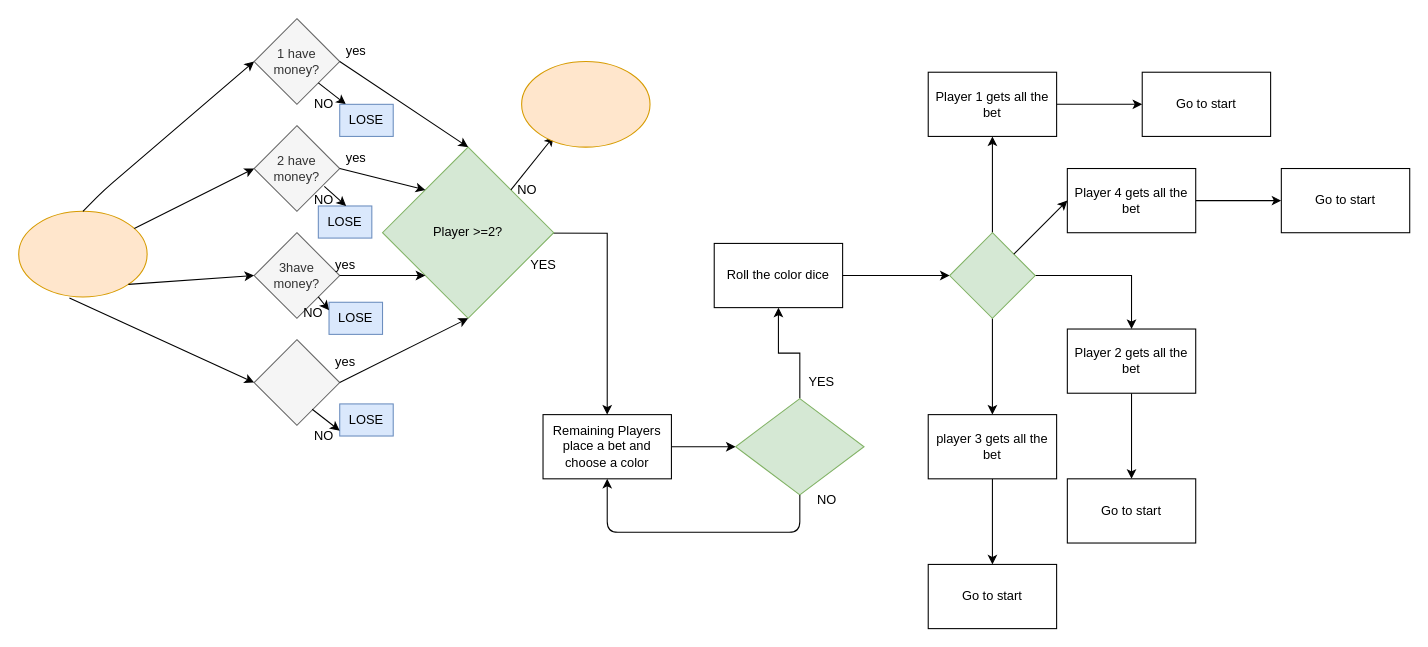
Image size: 1428x647. Some labels were removed from this diagram. Each missing label, with the centre of its shape:
"4 have money?" belongs at (296,382).
"Does all input have value" belongs at (799,446).
"IF" belongs at (992,275).
"Remaining player win game ends" belongs at (585,103).
"START" belongs at (82,253).
